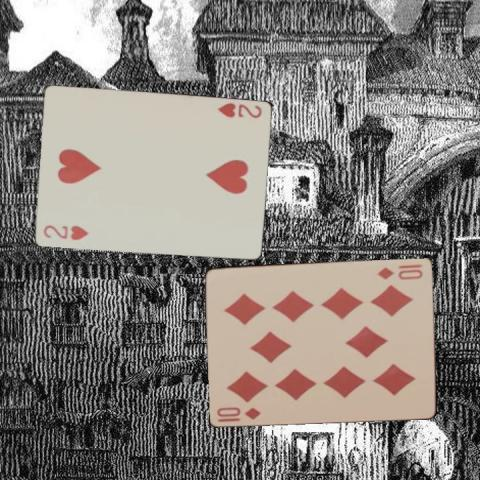10d: (214, 404, 262, 423), (374, 264, 424, 281)
2h: (40, 222, 90, 242), (216, 100, 264, 120)
